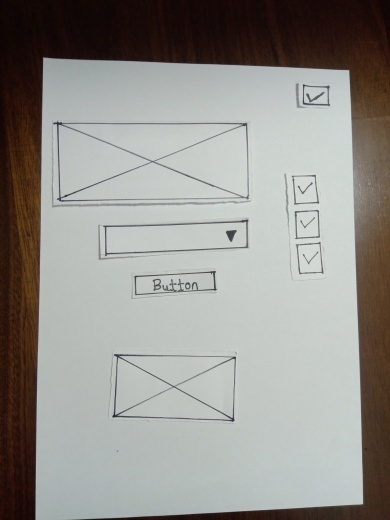button: (139, 275, 220, 293)
checkbox: (296, 244, 327, 276), (290, 210, 322, 236), (292, 176, 318, 205)
dropdown: (101, 224, 253, 253)
img: (54, 121, 249, 201), (113, 355, 236, 421)
